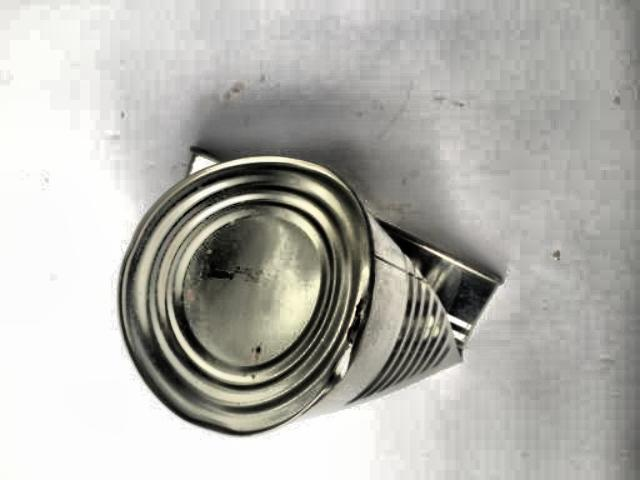Almennt: (128, 132, 498, 442)
